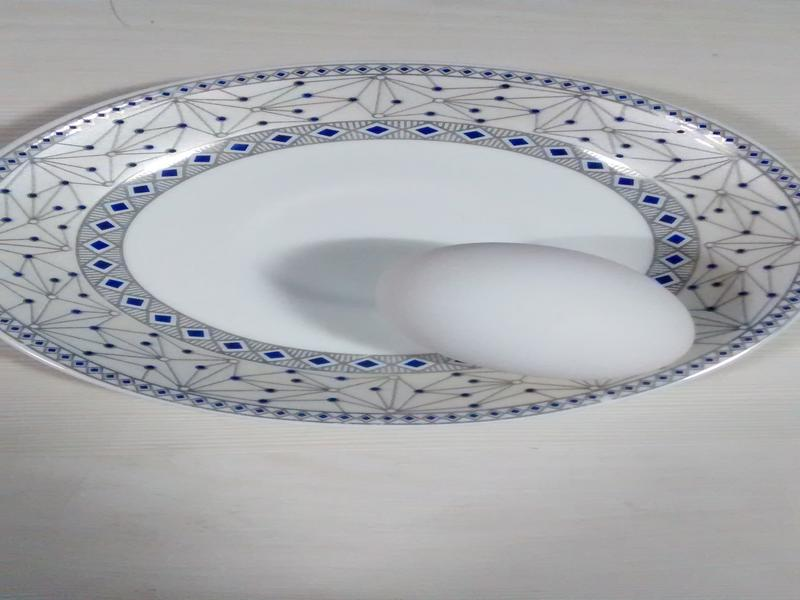egg: (391, 243, 697, 385)
